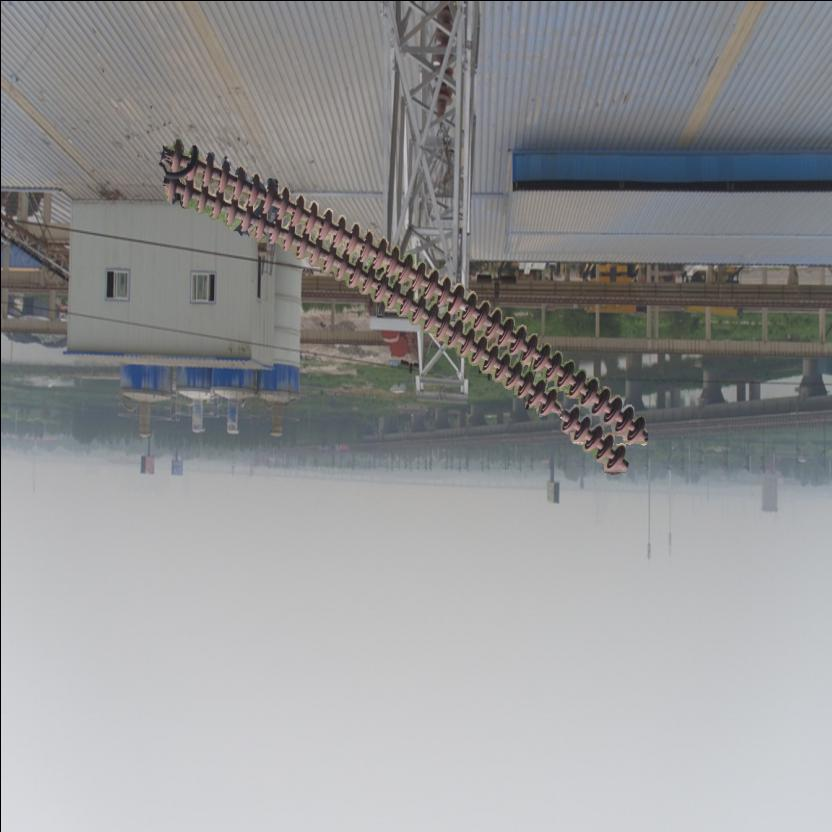defect: (538, 388, 582, 434)
